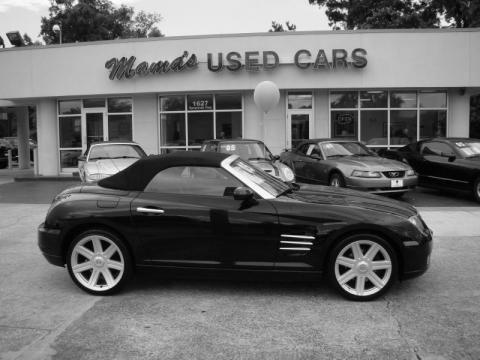car: (37, 155, 433, 302)
